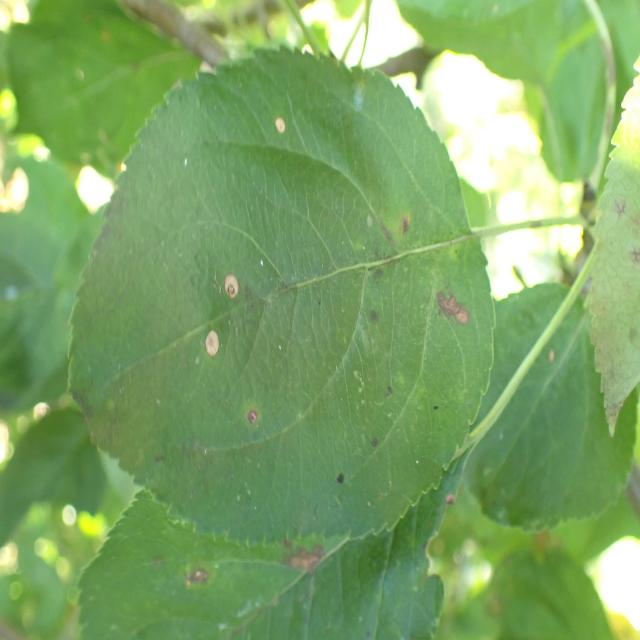frog-eye-leaf-spot: (66, 42, 496, 548), (71, 452, 472, 640)
